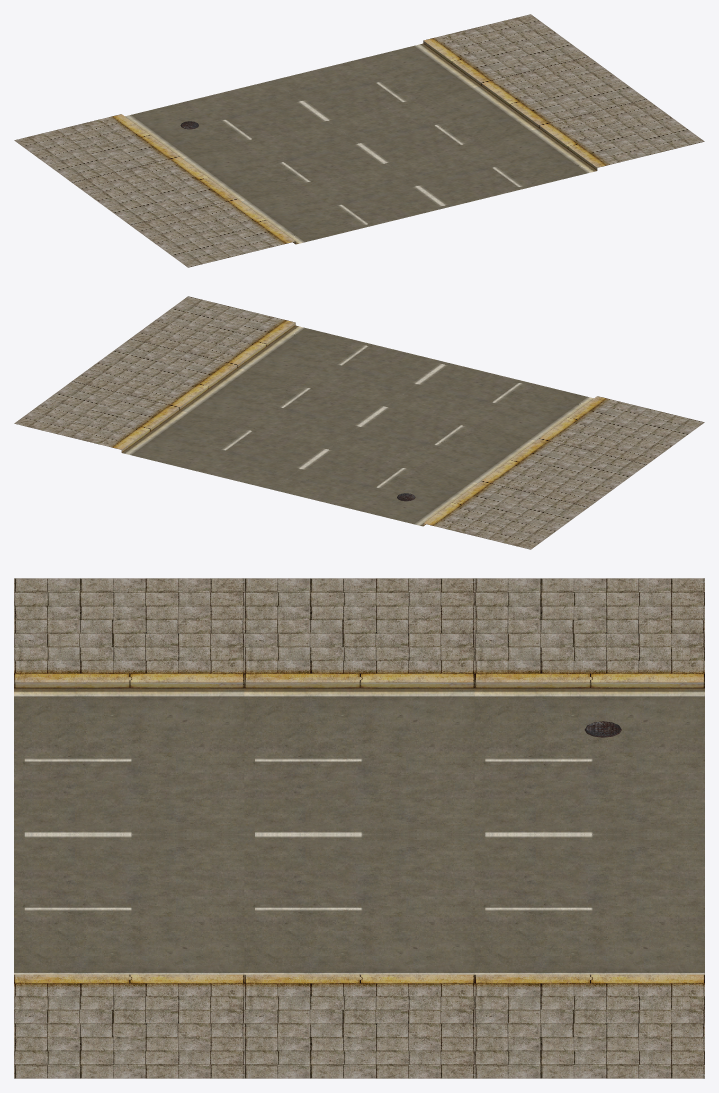
The model's file is Road2_Part_07_C.fbx.
3 views of the same model, one above another, from view 1: azimuth 30°, elevation 25°; view 2: azimuth 150°, elevation 25°; view 3: azimuth 270°, elevation 25° (orthographic). The views are drawn at different scales.
Parts seen in each view (by area): view 1: Model_Road2_Part_07_C; view 2: Model_Road2_Part_07_C; view 3: Model_Road2_Part_07_C.
Part boxes in pixels (<box>): Model_Road2_Part_07_C: <box>14,14,704,267</box>; Model_Road2_Part_07_C: <box>14,296,704,549</box>; Model_Road2_Part_07_C: <box>14,578,704,1078</box>.
Size of the model in its own units: 2400 by 13.71 by 1400.
